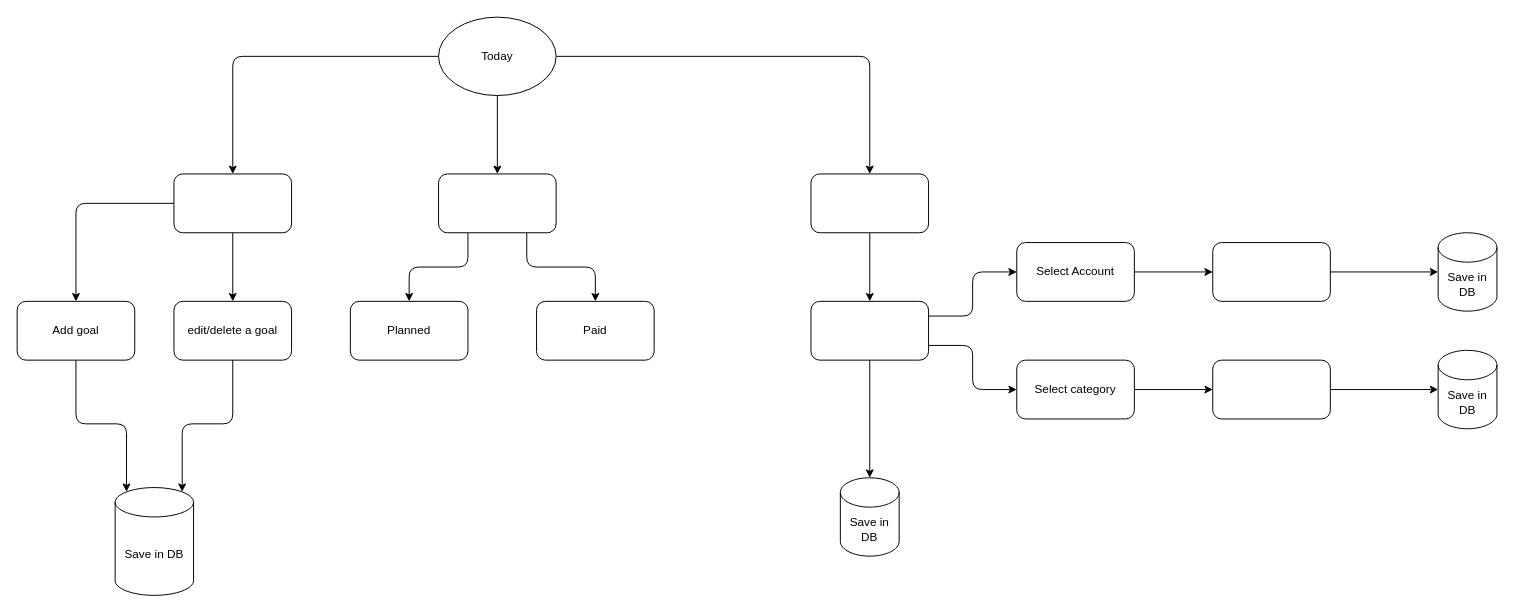
This 1514x613 diagram has some shape labels left out. Each missing label, with the centre of its shape:
Add Expense: the point at 869,203
Add/edit a category: the point at 1271,389
Add/edit an account: the point at 1271,271
Expense details: the point at 869,330
Expenses List: the point at 497,203
Goals List: the point at 232,203
